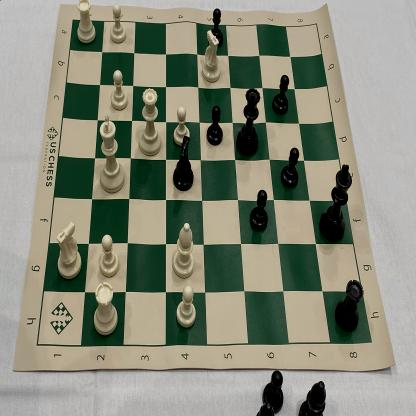black-king: (315, 159, 353, 244)
black-knight: (170, 135, 196, 192)
black-pawn: (249, 186, 272, 232), (278, 144, 300, 192), (268, 72, 292, 116), (204, 104, 224, 148), (207, 6, 226, 48)
black-queen: (235, 85, 262, 158)
black-rook: (136, 86, 164, 156), (332, 275, 364, 332), (97, 233, 121, 280)
white-bishop: (168, 218, 196, 280)
white-king: (96, 112, 128, 194)
white-knight: (51, 218, 82, 280), (196, 29, 224, 83)
white-pawn: (173, 282, 198, 330), (106, 0, 128, 46), (170, 104, 193, 148), (109, 68, 129, 115)
white-rook: (91, 281, 120, 338), (72, 0, 98, 45)
